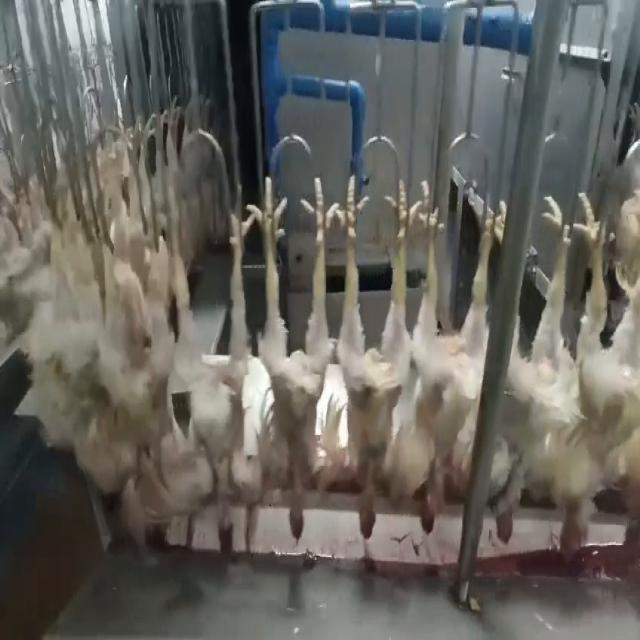chicken: (394, 179, 497, 543), (246, 162, 340, 560), (516, 178, 606, 570), (155, 169, 249, 535), (328, 171, 414, 544), (106, 227, 162, 529), (600, 212, 639, 566)
